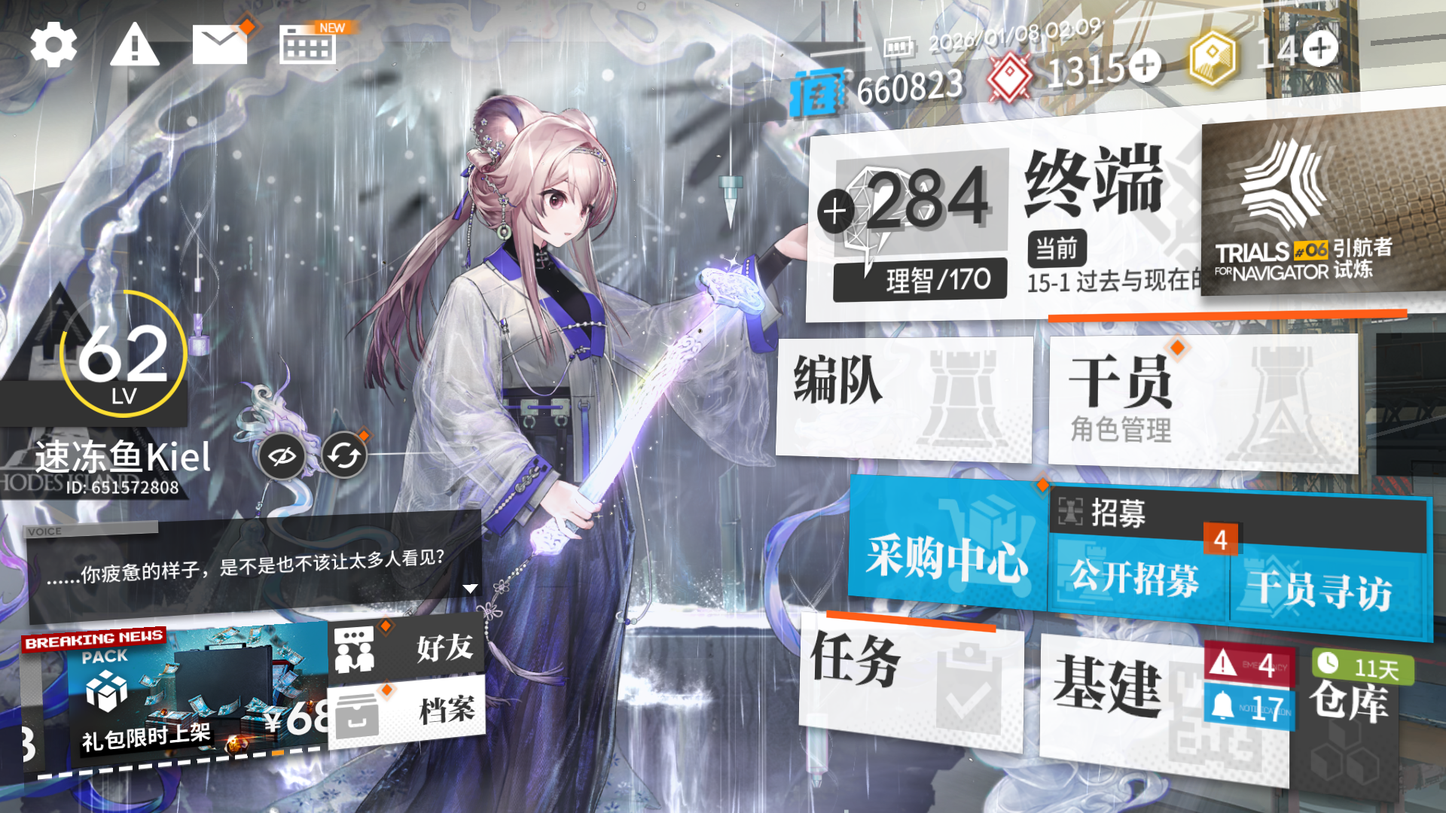home_button: (1010, 123, 1176, 236)
infrastructure_button: (1036, 633, 1286, 766)
